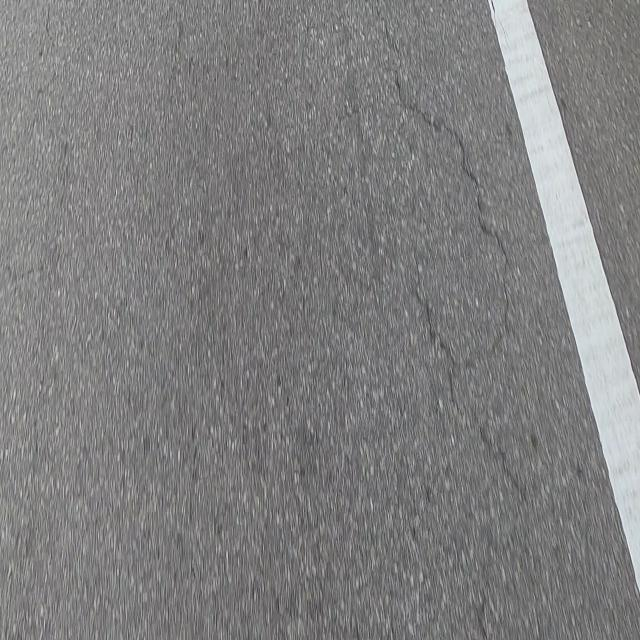Retak-Memanjang: (391, 76, 512, 360), (412, 290, 528, 510)
